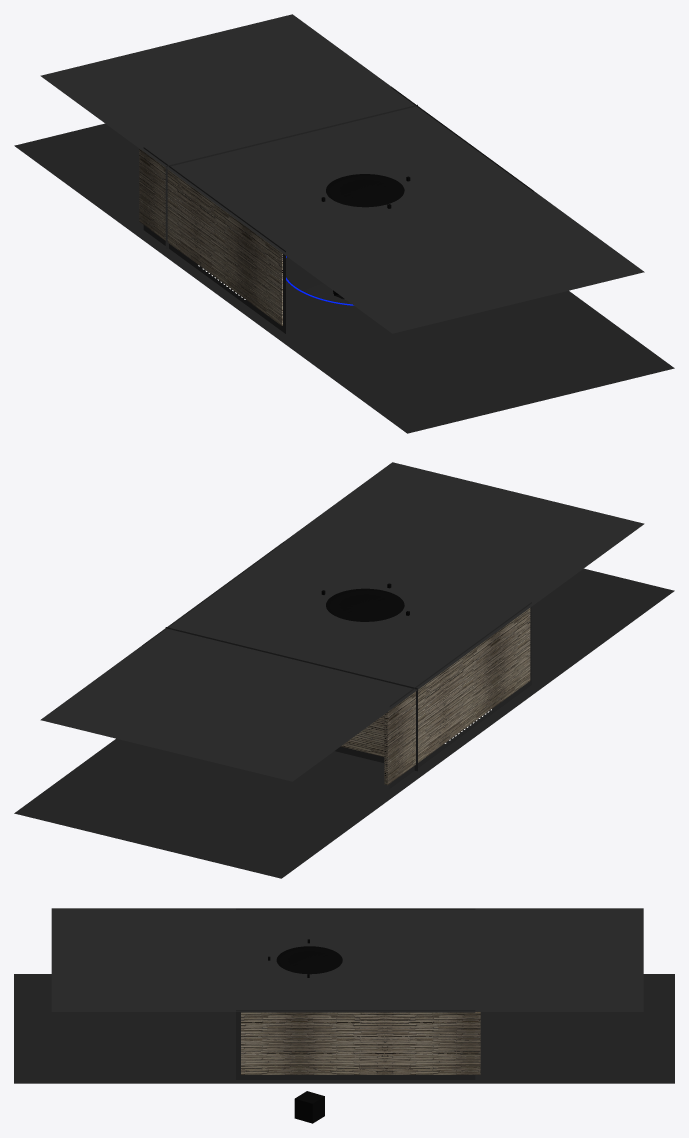
Rendered from my_car_in_a_showroom.glb.
3 views of the same model, one above another, from view 1: azimuth 30°, elevation 25°; view 2: azimuth 150°, elevation 25°; view 3: azimuth 270°, elevation 25° (orthographic). The views are drawn at different scales.
Parts seen in each view (by area): view 1: pPlane13, pPlane1, pPlane7, pCylinder3, pPlane9, pCylinder1, pCylinder4, pPlane5; view 2: pPlane13, pPlane1, pPlane7, pCylinder3, pPlane9, pPlane5, pPlane2, pCylinder4; view 3: pPlane13, pPlane1, pPlane6, pPlane8, pCylinder3, Cube, pCylinder4, pPlane9.
Part boxes in pixels (x1,y1,x2,y2): pPlane13: (40,14,644,333); pPlane1: (14,123,674,433); pPlane7: (139,148,282,325); pCylinder3: (326,174,404,207); pPlane9: (143,147,285,333); pCylinder1: (286,257,351,304); pCylinder4: (340,179,390,201); pPlane5: (165,104,417,248); pPlane13: (40,462,644,781); pPlane1: (14,568,674,878); pPlane7: (384,608,530,785); pCylinder3: (326,588,404,621); pPlane9: (389,602,531,788); pPlane5: (165,627,417,771); pPlane2: (341,715,384,756); pCylinder4: (340,594,390,615); pPlane13: (51,908,643,1011); pPlane1: (14,974,674,1083); pPlane6: (241,1012,480,1074); pPlane8: (236,1010,475,1079); pCylinder3: (276,946,342,974); Cube: (294,1091,324,1123); pCylinder4: (288,951,330,968); pPlane9: (236,908,475,909).
Size of the model in its own units: 18.94 by 12.59 by 48.22.
40 materials, 7 textured.
